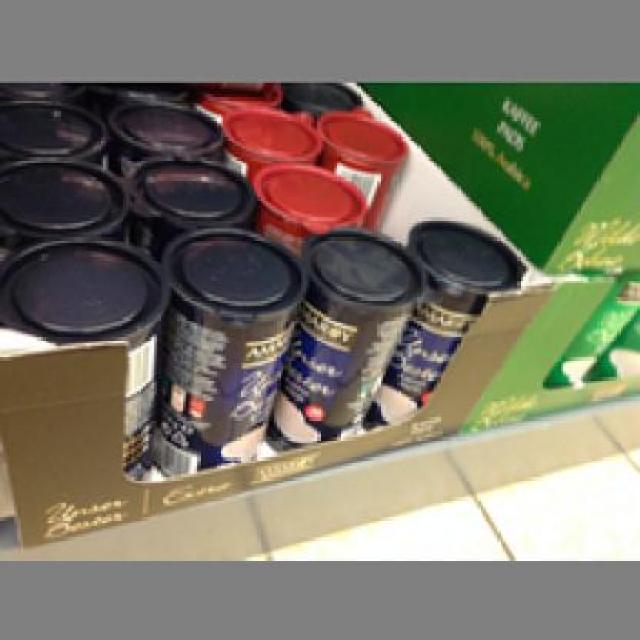Coffee: (160, 226, 311, 468), (277, 228, 420, 446), (372, 220, 508, 420)
